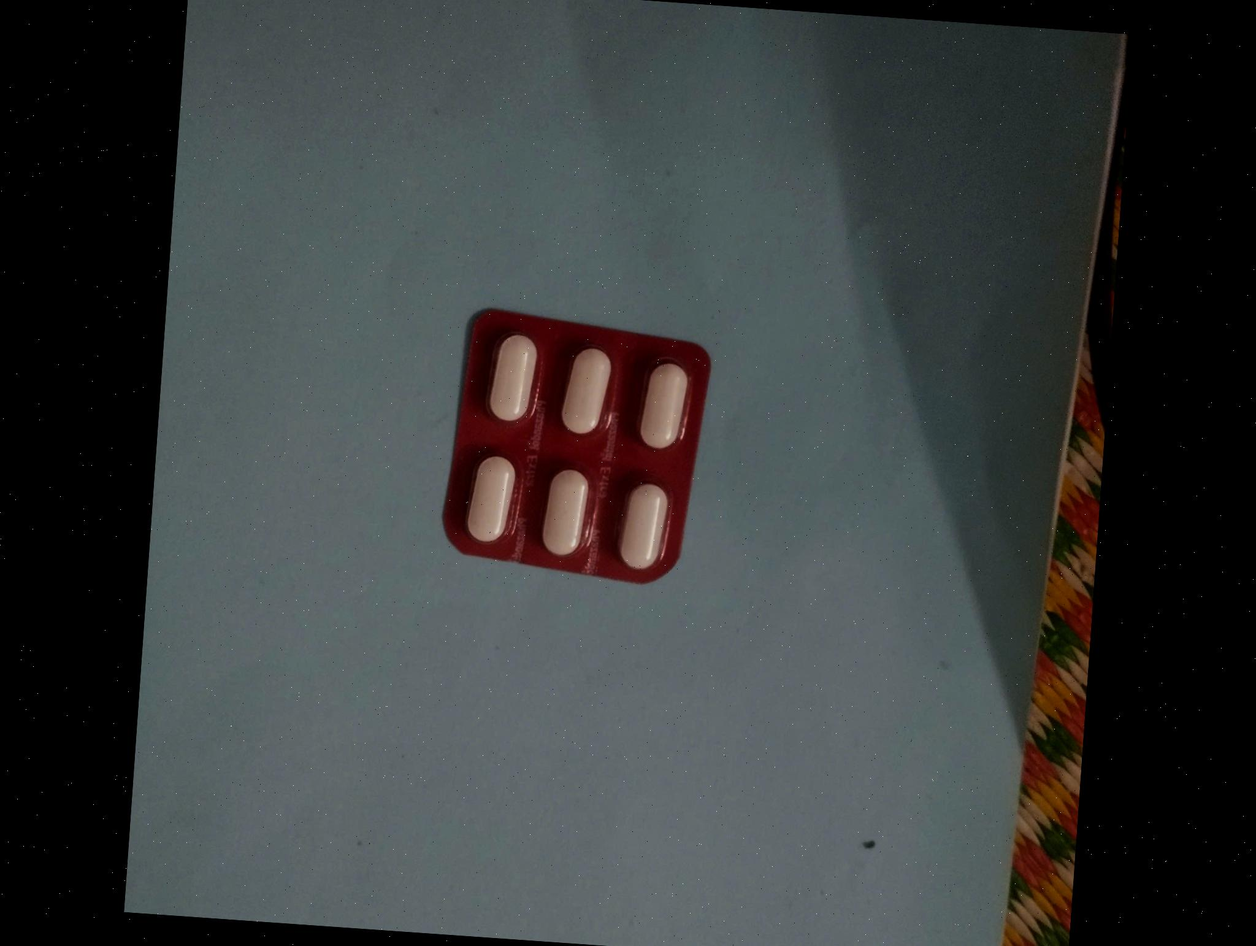Full: (630, 355, 694, 453), (483, 327, 545, 426), (557, 343, 617, 441), (462, 452, 520, 550), (536, 463, 592, 559), (618, 475, 670, 575)
